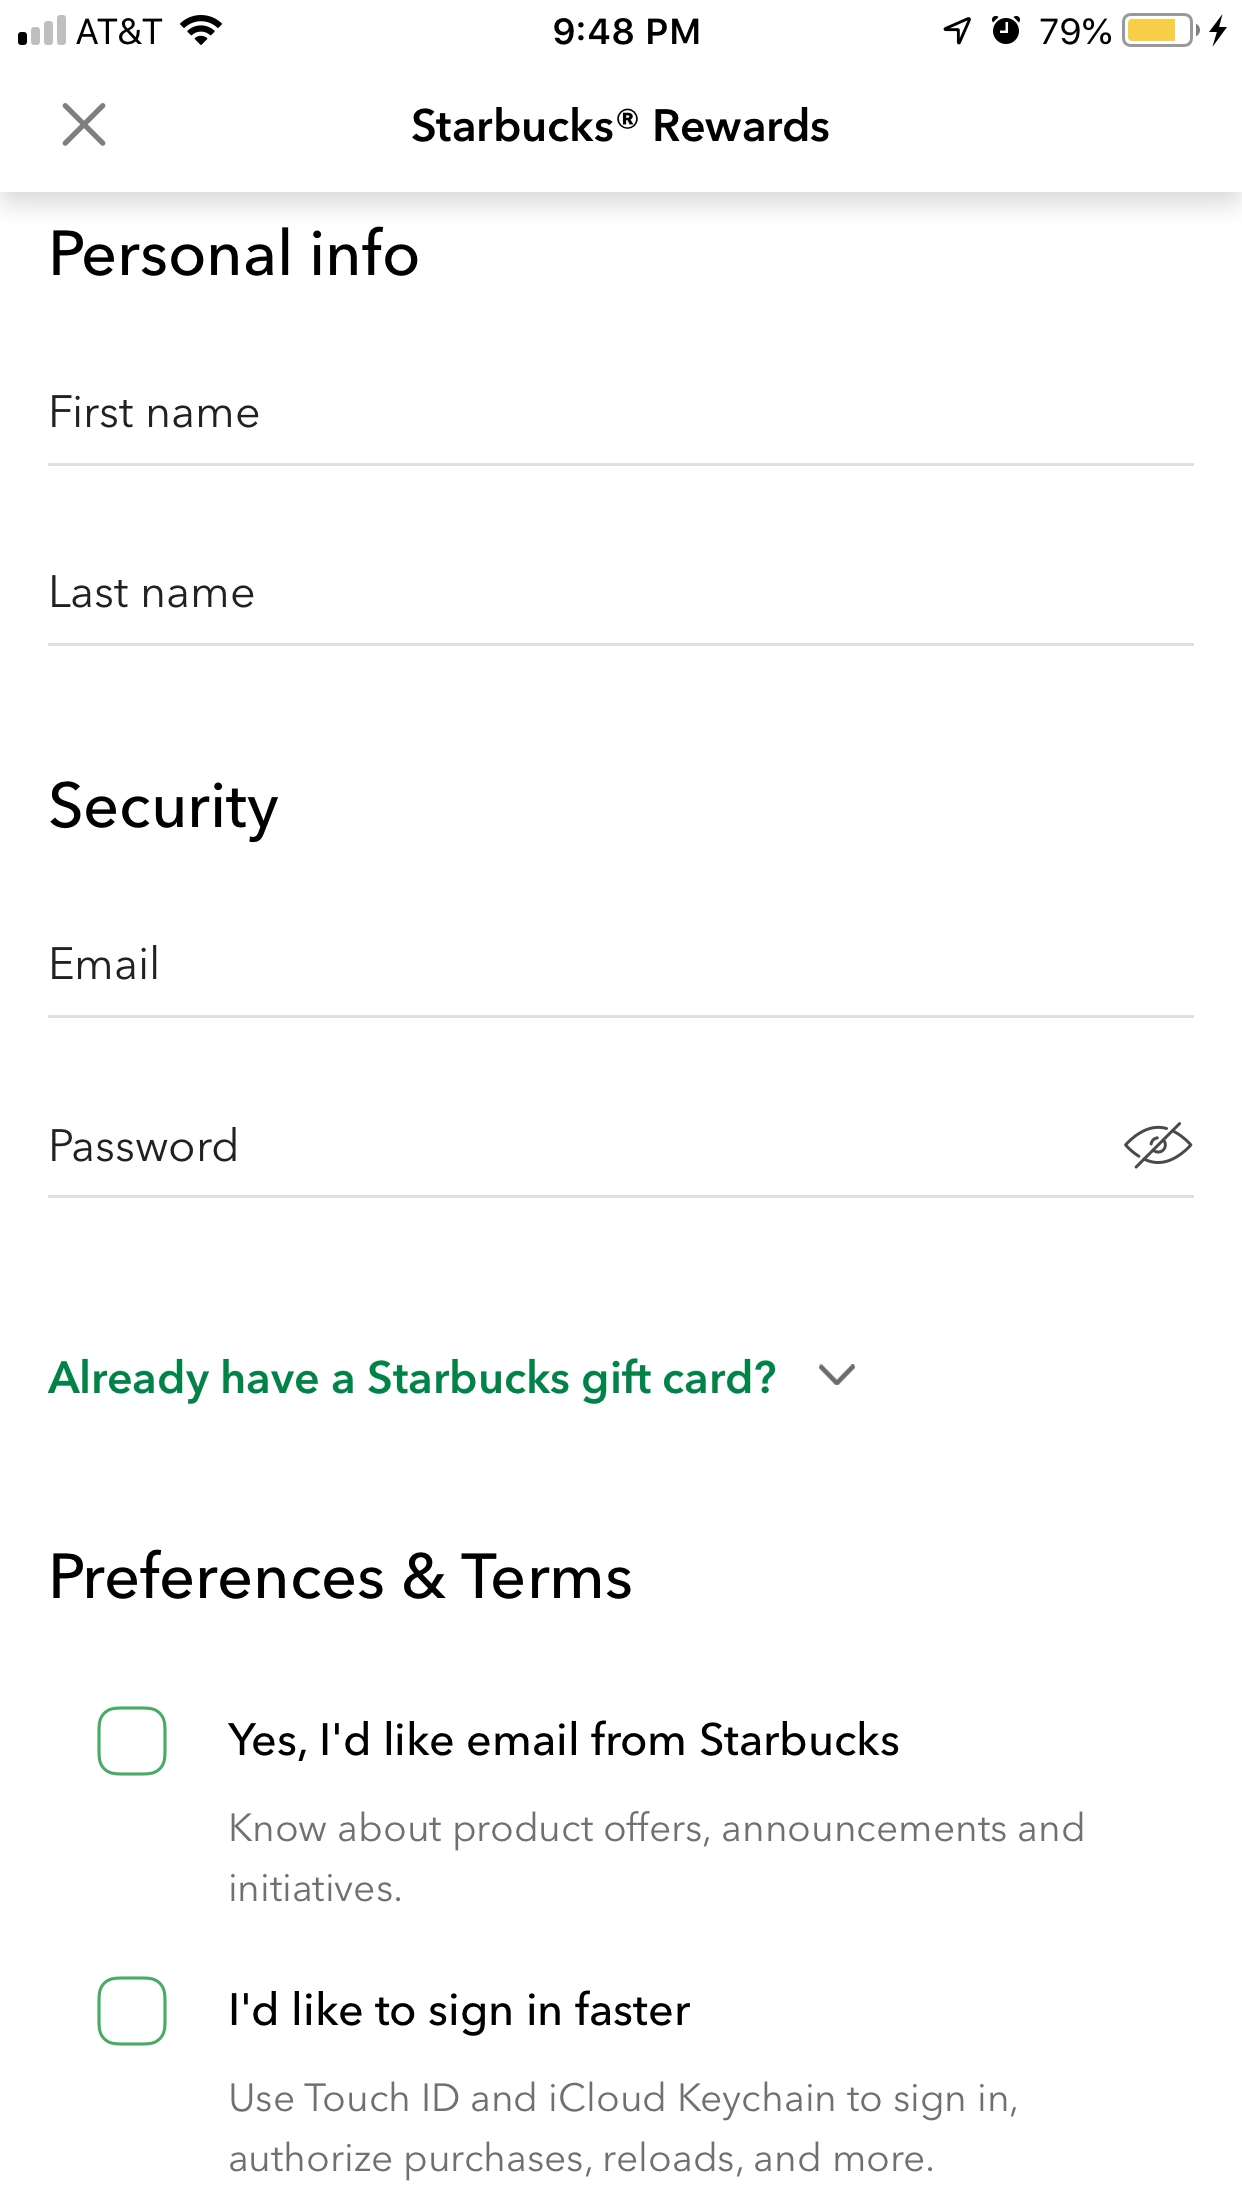CheckedTextView: (99, 1706, 899, 1777), (97, 1976, 692, 2047)
EditText: (49, 1121, 1195, 1200), (49, 394, 1195, 469), (49, 945, 1193, 1019), (49, 575, 1195, 648)
Icon: (1124, 1122, 1193, 1171), (62, 105, 108, 149), (817, 1363, 855, 1386)
Text: (231, 2081, 1018, 2182), (231, 1811, 1084, 1903), (49, 1357, 776, 1404), (53, 1548, 632, 1600), (227, 1720, 899, 1762), (231, 1990, 692, 2037), (53, 227, 419, 278), (412, 108, 830, 144), (50, 781, 279, 845), (52, 394, 259, 431), (52, 575, 255, 610), (52, 1127, 238, 1163), (52, 943, 159, 981)
UpperTaskBar: (2, 2, 1242, 49)
